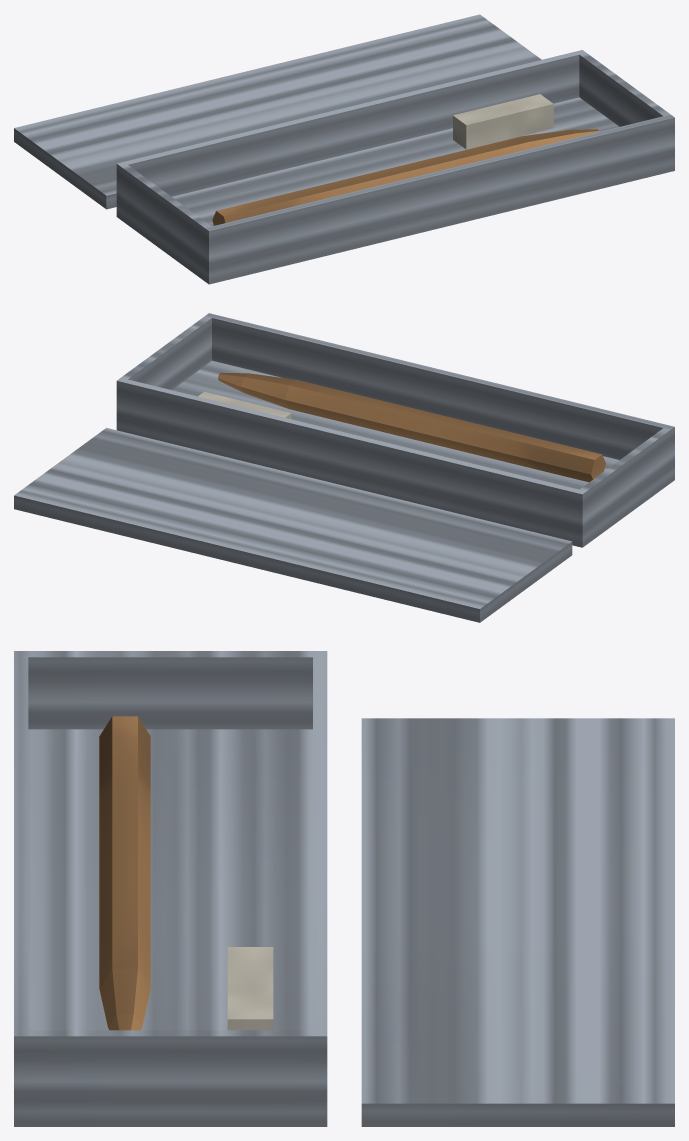
Rendered from pencil_case.fbx.
The picture shows the model from 3 angles, top to bottom: view 1: azimuth 30°, elevation 25°; view 2: azimuth 150°, elevation 25°; view 3: azimuth 270°, elevation 25°; orthographic projection. The views are drawn at different scales.
Visible parts, largest first — view 1: pencil_case; view 2: pencil_case; view 3: pencil_case.
Boxes of the visible parts, x1,y1,x2,y2 form: pencil_case: [14, 14, 674, 284]; pencil_case: [14, 313, 674, 622]; pencil_case: [14, 651, 674, 1126].
Bounding box in the file's own units: 16 × 1.75 × 11.6.
